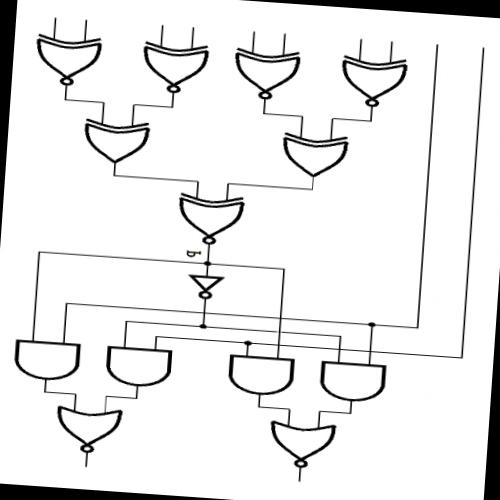and: (97, 339, 178, 392), (310, 354, 391, 407), (220, 348, 300, 400), (8, 332, 86, 385)
nor: (48, 400, 126, 458), (262, 415, 339, 472)
not: (180, 267, 230, 303)
xnor: (27, 25, 111, 92), (133, 34, 214, 98), (226, 40, 304, 106), (331, 48, 411, 112), (170, 188, 249, 248)
xor: (272, 127, 354, 182), (76, 113, 154, 168)
